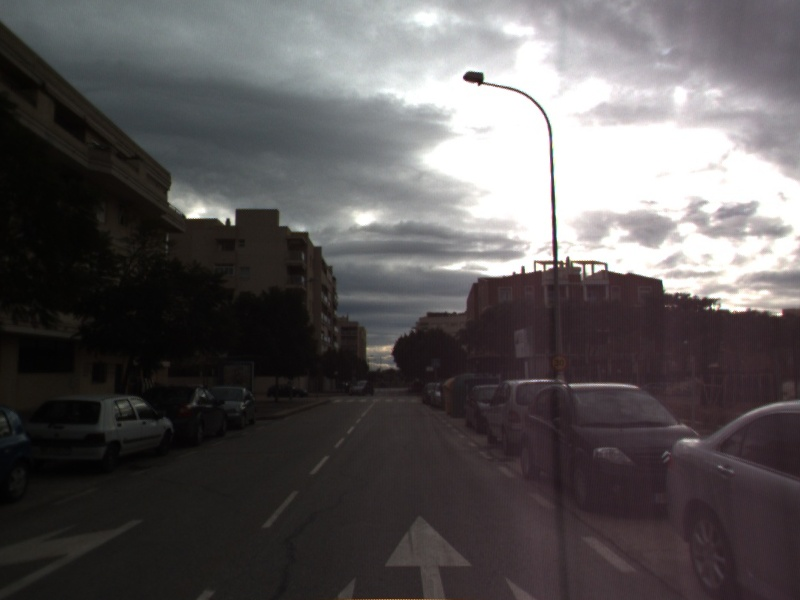STRAIGHT: (380, 512, 477, 600)
